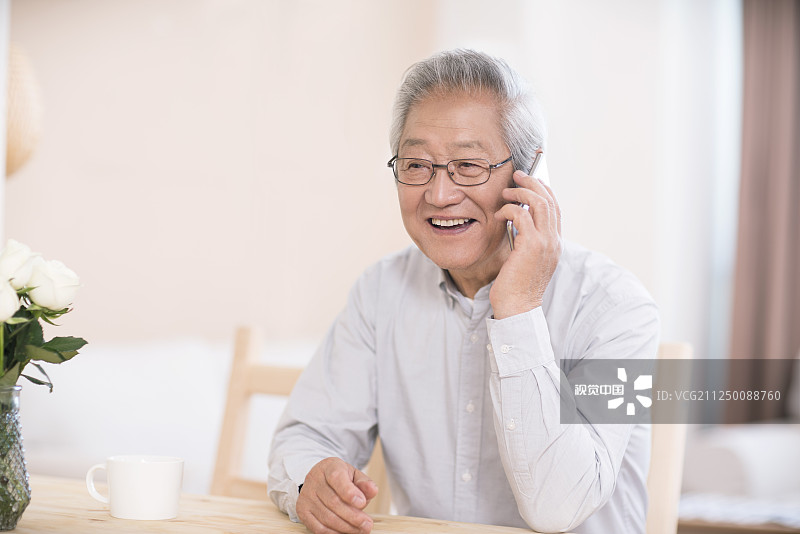calling: (477, 149, 603, 320)
no-phone: (277, 446, 399, 534)
